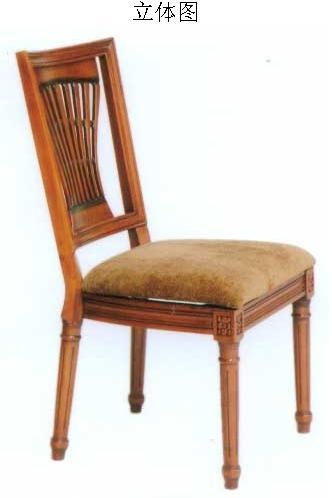obstacle: (17, 38, 313, 488)
